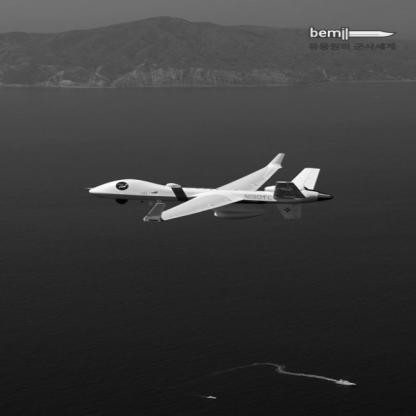MQ9: (84, 154, 335, 223)
